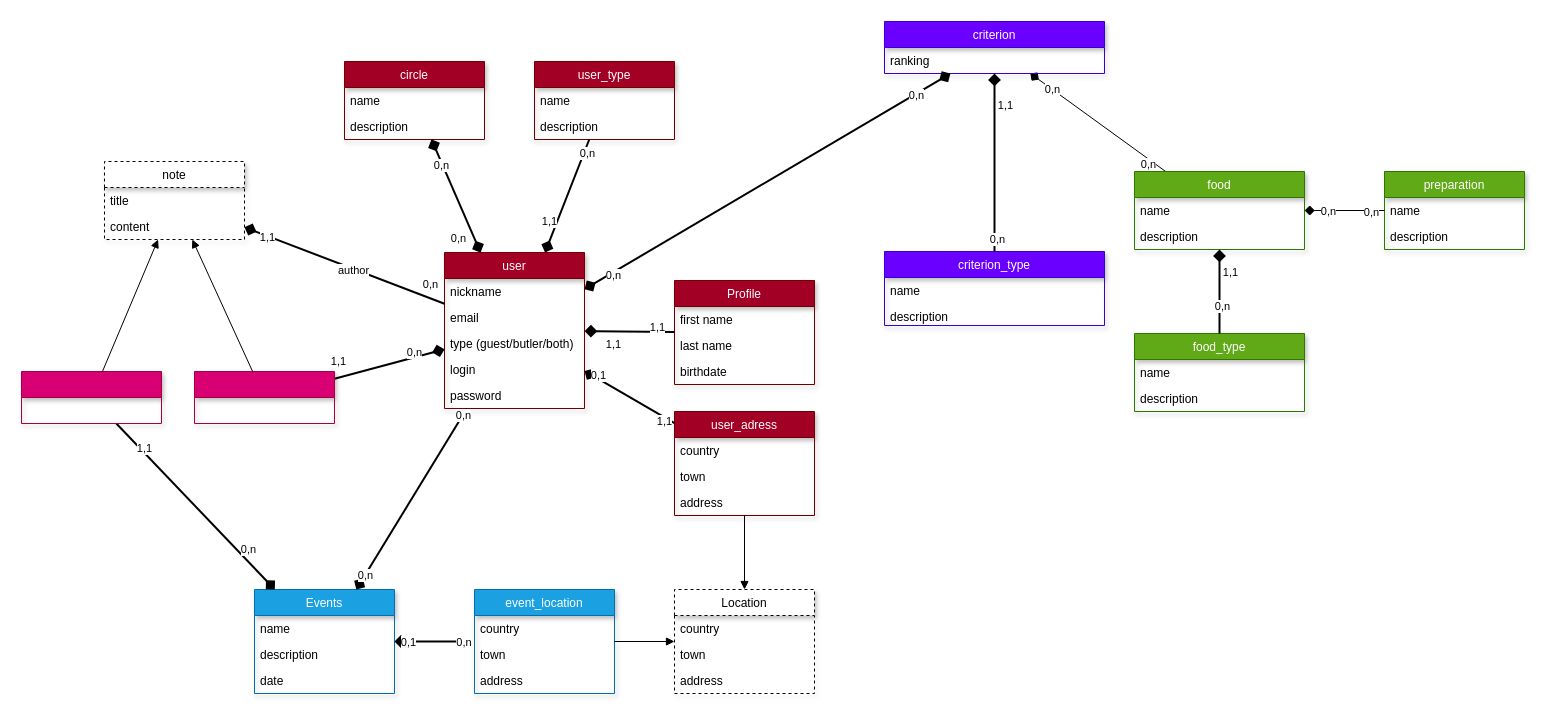
Image size: 1548x718. Some labels were removed from this diagram. Here are the shapes that lost their labels. From the top down, the centre of each, then its label:
At [92,398]: "event_note".
At [265,398]: "user_note".
